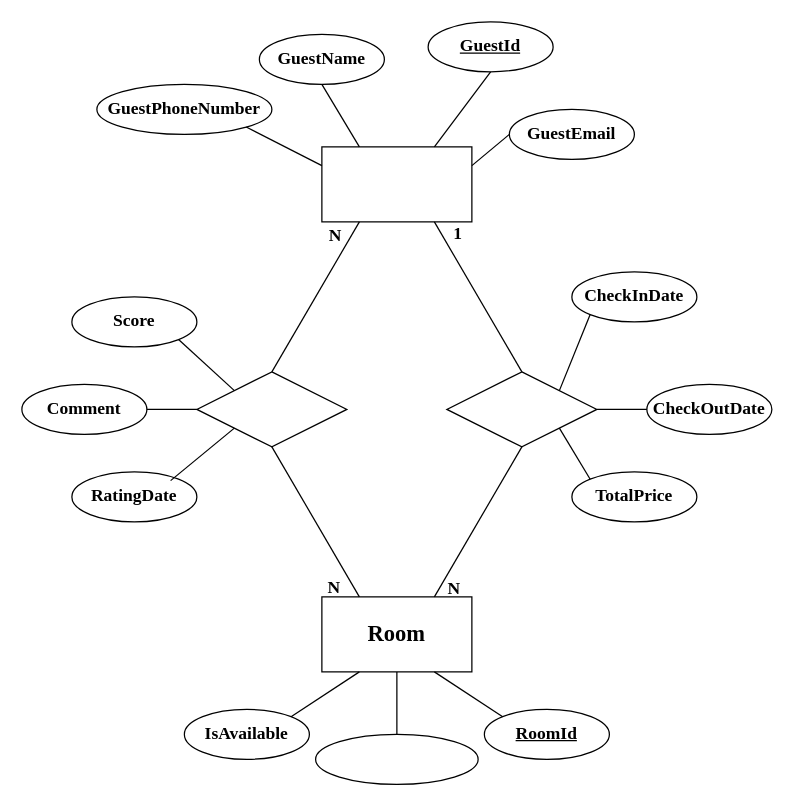
Some shapes in this 794 by 806 pixel diagram are drawn without their labels. Each missing label, with the centre of its shape:
"Booking" goes at pixel 521 409.
"Guest" goes at pixel 396 184.
"Rating" goes at pixel 271 409.
"RoomDailyPrice" goes at pixel 396 758.
